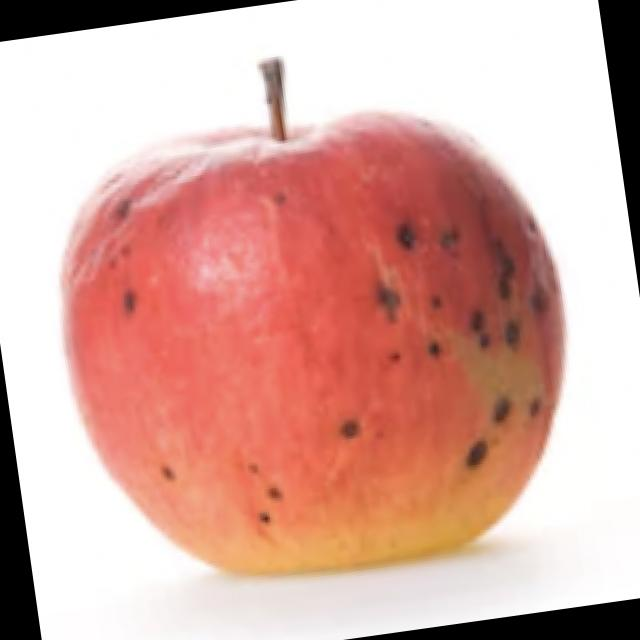rotten_apple: (31, 50, 610, 610)
